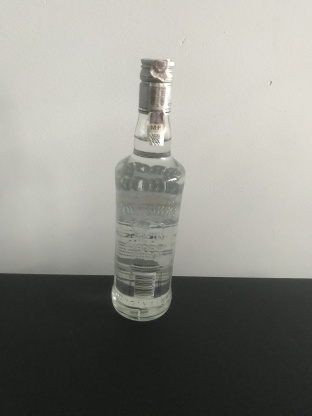nakretka: (137, 55, 176, 114)
